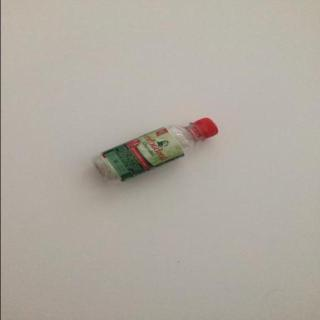Anorganik: (88, 114, 223, 185)
